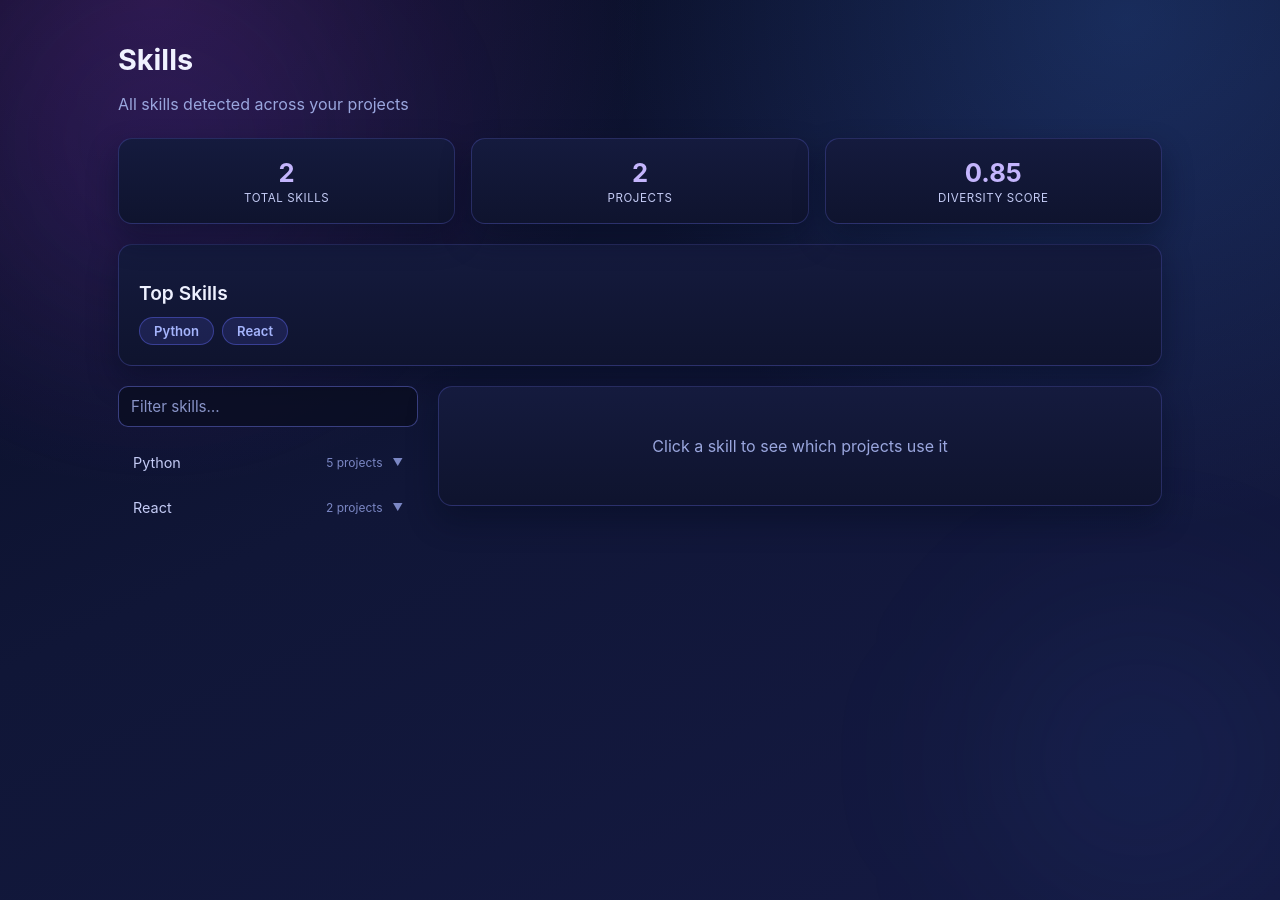
Scenario: Skills - detail panel › shows skill detail on row click
Click the text "Python": (157, 462) left=133, top=454, right=403, bottom=471
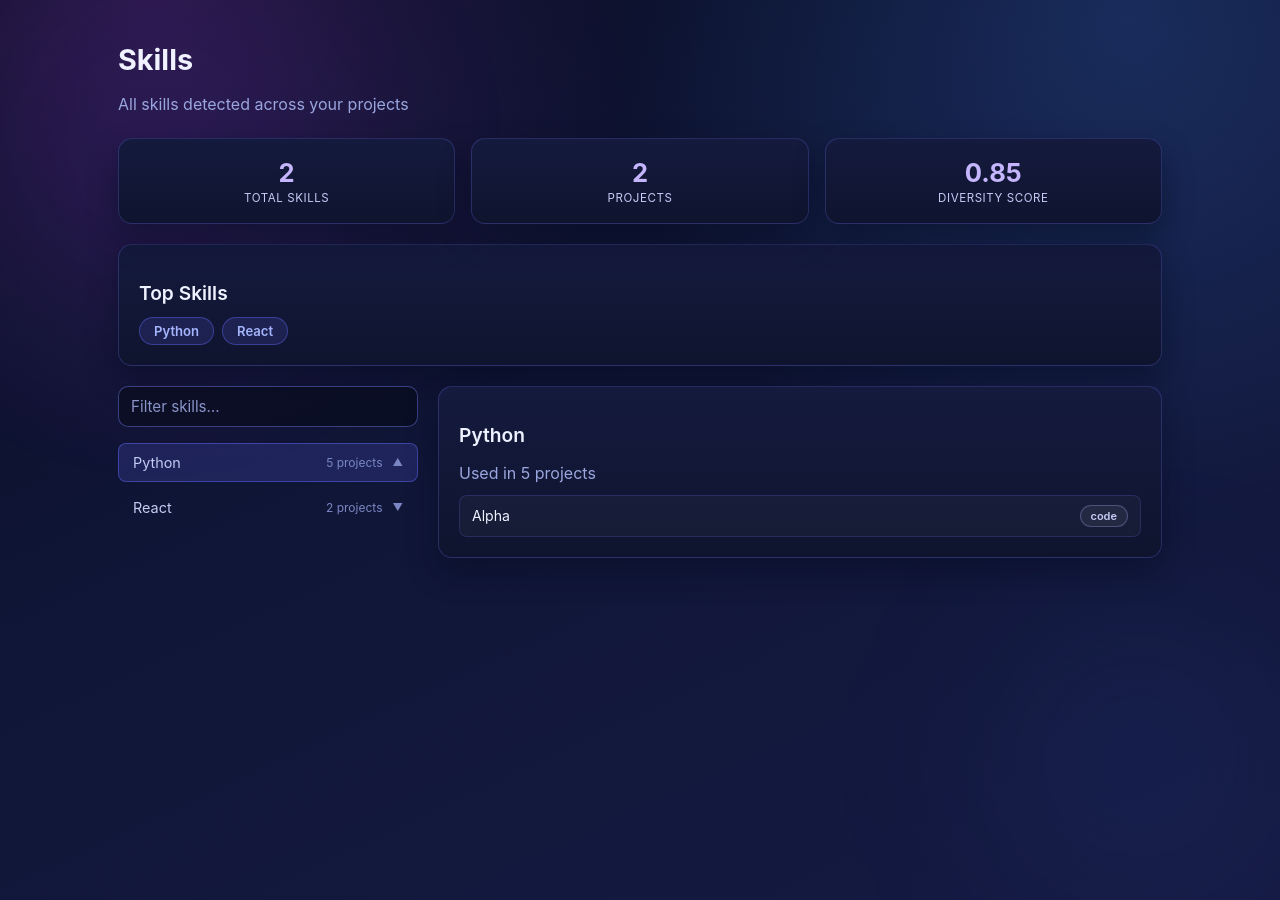
Check: the text "Used in 5 projects" is shown, box left=459, top=463, right=596, bottom=483
